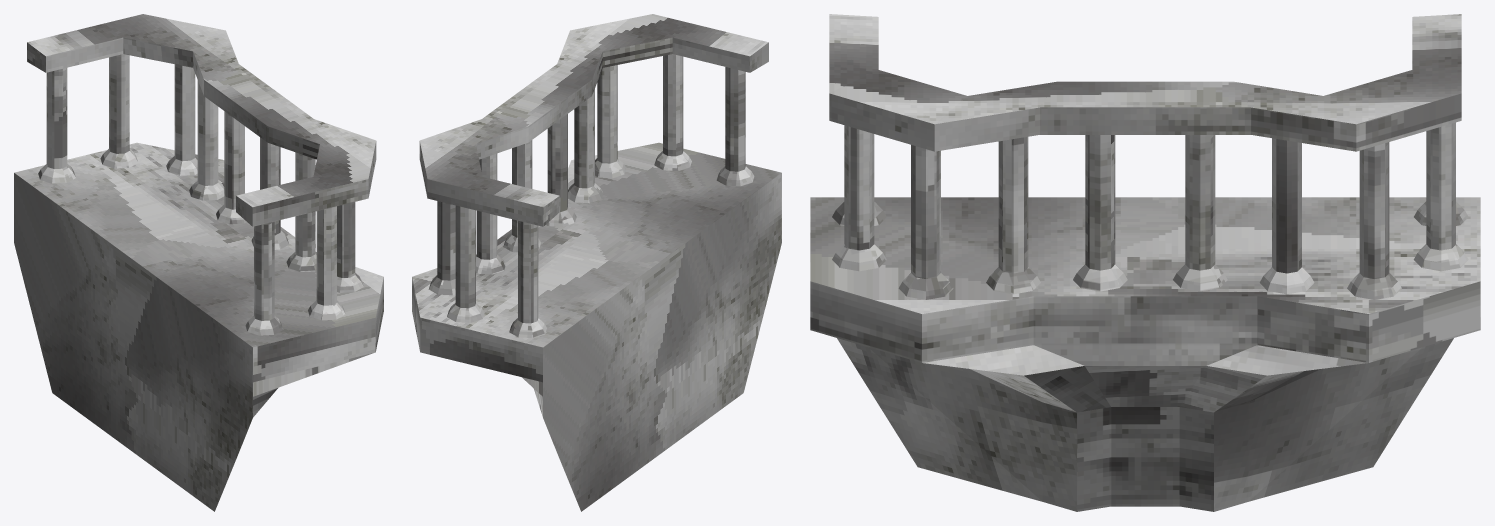
Rendered from balcony 1.fbx.
The picture shows the model from 3 angles, left to right: view 1: azimuth 30°, elevation 25°; view 2: azimuth 150°, elevation 25°; view 3: azimuth 270°, elevation 25°; orthographic projection. The views are drawn at different scales.
Parts seen in each view (by area): view 1: Cube; view 2: Cube; view 3: Cube.
Boxes of the visible parts, x1,y1,x2,y2 form: Cube: (14,14,383,511); Cube: (412,14,781,511); Cube: (810,14,1480,511).
Bounding box in the file's own units: 1025 × 1871 × 2484.
